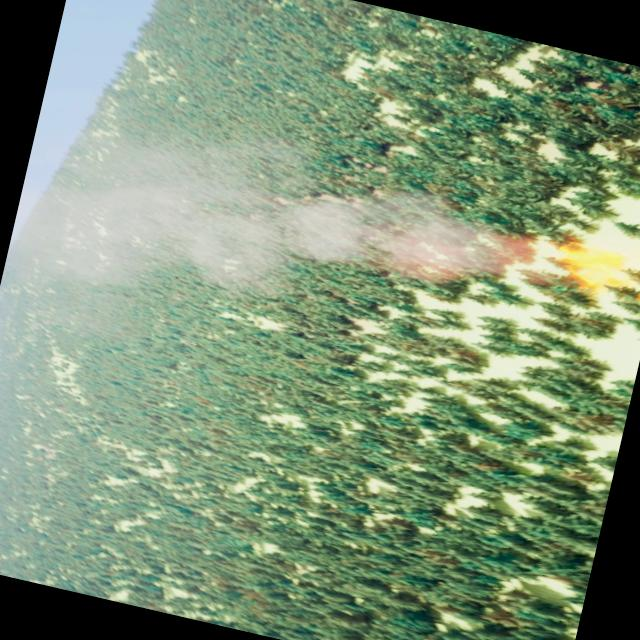fire: (542, 234, 638, 302)
smoke: (3, 88, 538, 384)
